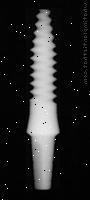OCO Biomedical: (26, 8, 60, 190)
